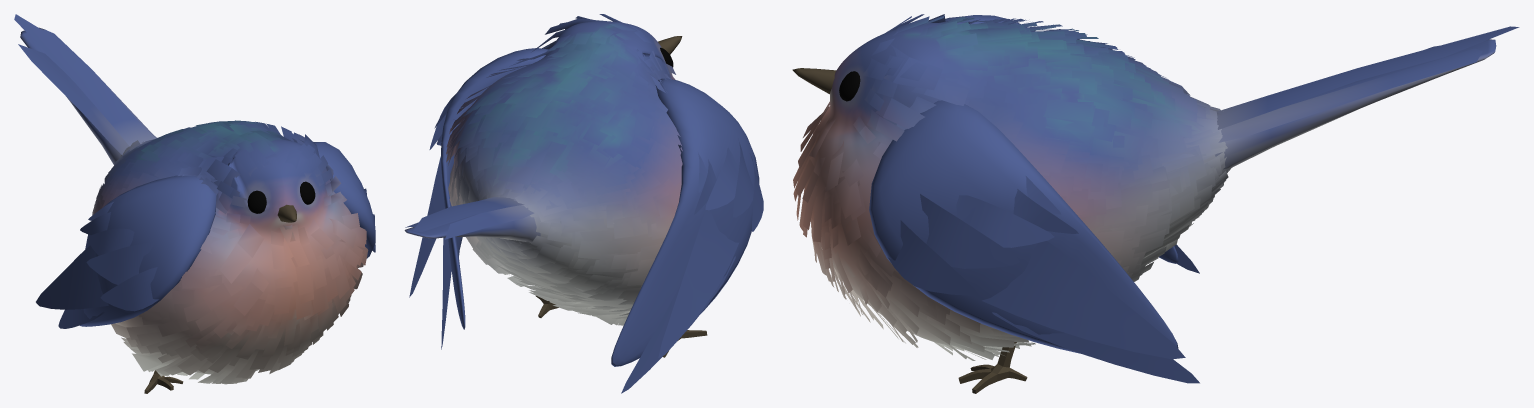
File: chonky_birb.glb
3 renders of one model, left to right at view 1: azimuth 30°, elevation 25°; view 2: azimuth 150°, elevation 25°; view 3: azimuth 270°, elevation 25°, orthographic. The views are drawn at different scales.
Parts seen in each view (by area): view 1: Feathers.1008, Cube.033, Cube.038, Cube.035, Cube.036, Cube.034, Cube.032, Cube.037; view 2: Feathers.1008, Cube.033, Cube.035, Cube.038, Cube.036, Cube.034, Cube.037; view 3: Feathers.1008, Cube.033, Cube.035, Cube.038, Cube.036, Cube.034, Cube.037, Cube.031.
Boxes of the visible parts, <box> form: Feathers.1008: <box>92,120,368,384</box>; Cube.033: <box>80,142,375,326</box>; Cube.038: <box>123,130,357,374</box>; Cube.035: <box>36,188,375,328</box>; Cube.036: <box>14,14,156,154</box>; Cube.034: <box>20,27,121,165</box>; Cube.032: <box>247,181,315,213</box>; Cube.037: <box>144,370,183,393</box>; Feathers.1008: <box>446,14,682,325</box>; Cube.033: <box>441,48,759,366</box>; Cube.035: <box>409,93,763,393</box>; Cube.038: <box>454,21,681,310</box>; Cube.036: <box>405,196,534,239</box>; Cube.034: <box>404,214,540,242</box>; Cube.037: <box>536,296,707,357</box>; Feathers.1008: <box>793,14,1230,360</box>; Cube.033: <box>869,15,1178,353</box>; Cube.035: <box>888,176,1199,383</box>; Cube.038: <box>805,23,1184,346</box>; Cube.036: <box>1216,26,1519,142</box>; Cube.034: <box>1215,39,1496,169</box>; Cube.037: <box>958,342,1027,393</box>; Cube.031: <box>792,68,836,94</box>.
Size of the model in its own units: 2.58 by 2.36 by 4.38.
